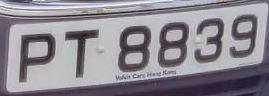3: (190, 13, 230, 67)
8: (113, 20, 157, 78), (154, 17, 194, 71)
9: (226, 10, 261, 62)
P: (13, 25, 61, 91)
T: (58, 25, 104, 84)
